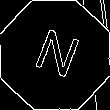N_S: (27, 24, 83, 86)
